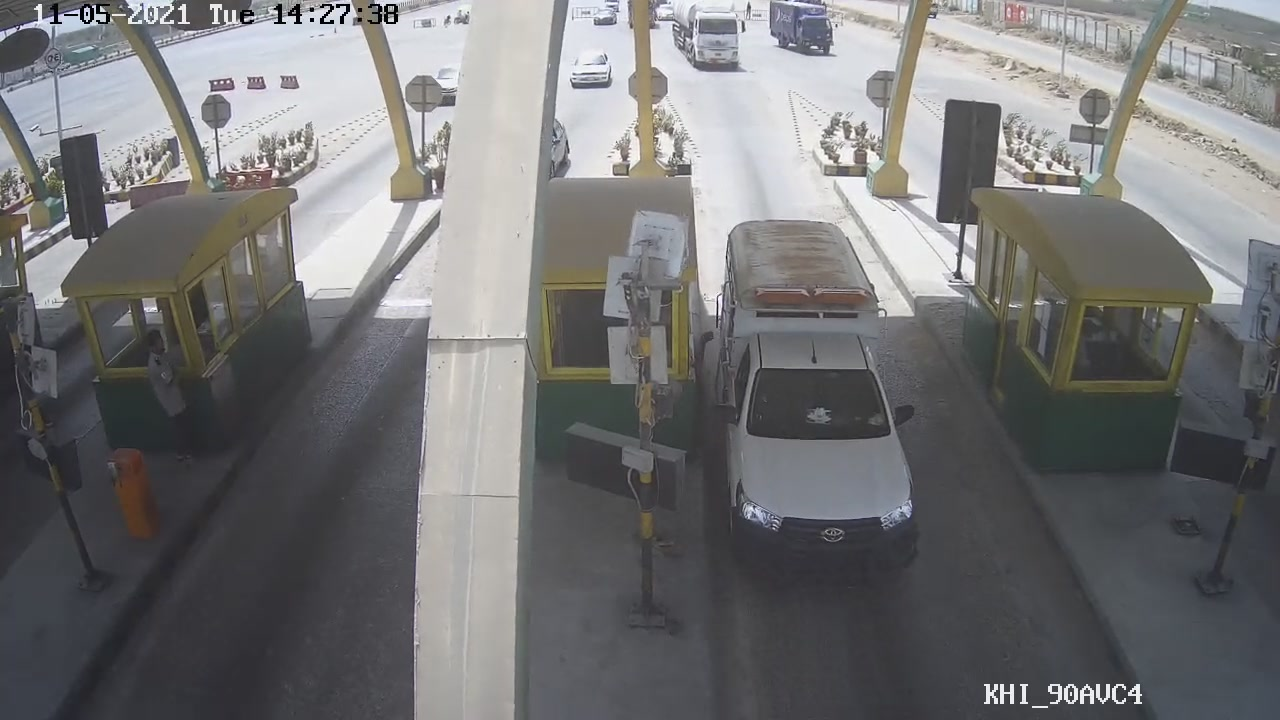F1: (711, 223, 925, 586)
